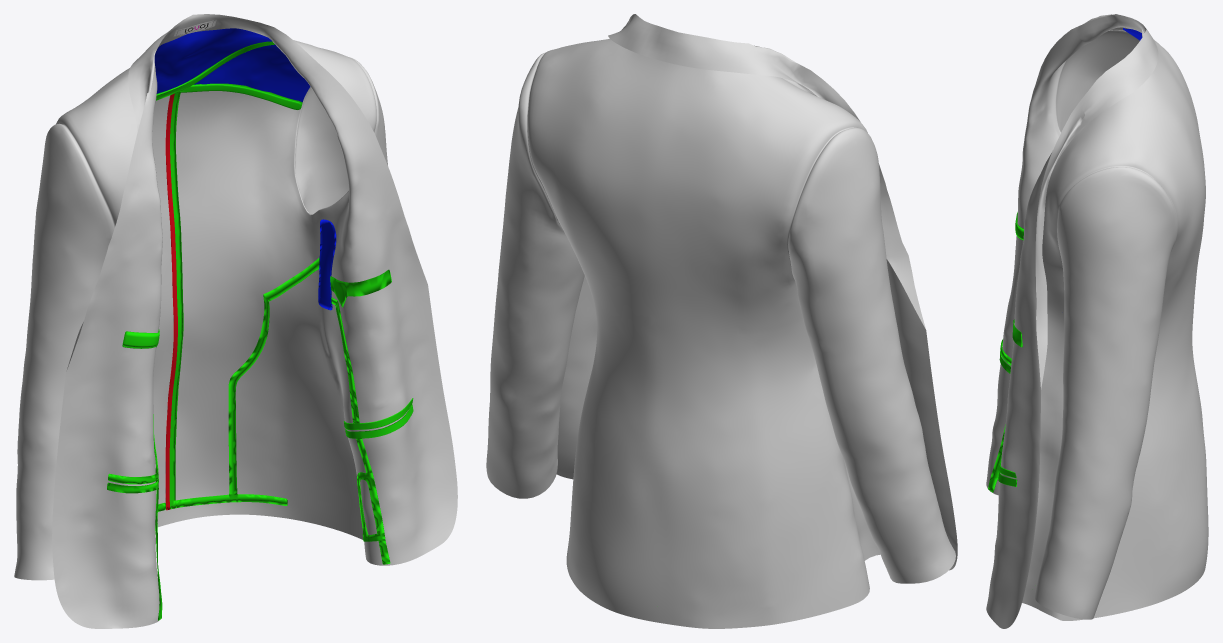
The model's file is open_lining_no_vent.glb.
3 renders of one model, left to right at view 1: azimuth 30°, elevation 25°; view 2: azimuth 150°, elevation 25°; view 3: azimuth 270°, elevation 25°, orthographic. The views are drawn at different scales.
Parts seen in each view (by area): view 1: unlined_suit, tertiary, secondary, primary; view 2: unlined_suit; view 3: unlined_suit, tertiary.
Part boxes in pixels (x1,y1,x2,y2): unlined_suit: (14, 14, 457, 628); tertiary: (107, 41, 413, 620); secondary: (154, 28, 336, 310); primary: (165, 93, 177, 510); unlined_suit: (486, 14, 957, 628); unlined_suit: (986, 14, 1208, 628); tertiary: (988, 212, 1023, 492).
Size of the model in its own units: 65.06 by 76.5 by 29.16.
Materials: 5 (1 with a texture image).
